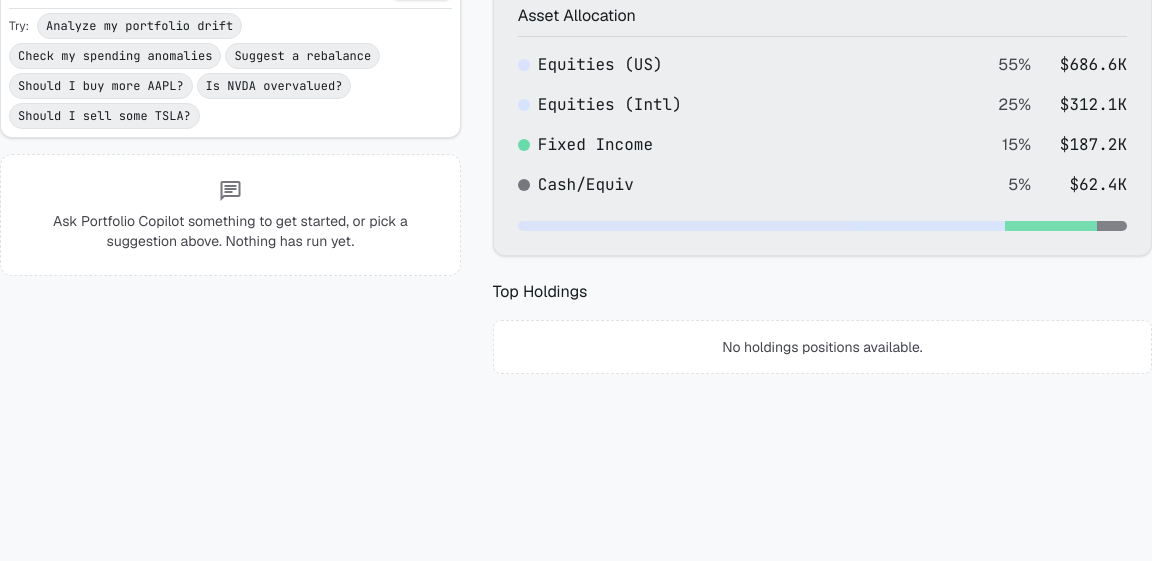
Test: Frontend Views › DashboardView allows rejecting actions and resumes plan via apiService.streamPlanResume
The image size is (1152, 561).
Click the button with test id "example-prompt" showing "Analyze my portfolio drift" at (140, 26), box left=37, top=13, right=242, bottom=39
(page scrolled)
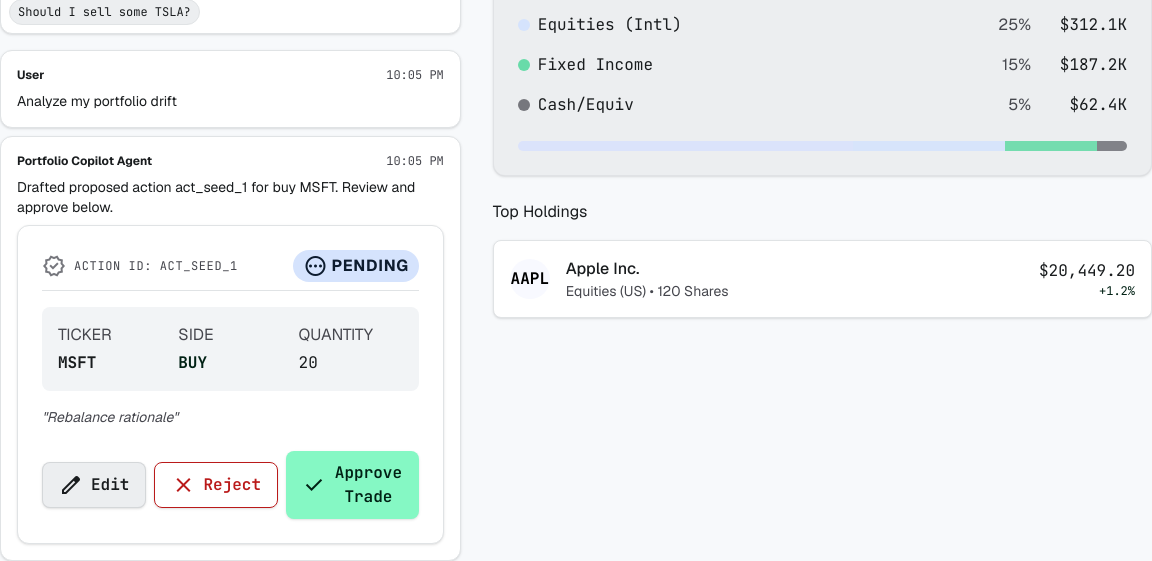
Result: the element with test id "approval-card" is shown at left=17, top=225, right=444, bottom=544
Click the button with test id "btn-reject" at (216, 485), box left=154, top=462, right=278, bottom=508
(page scrolled)
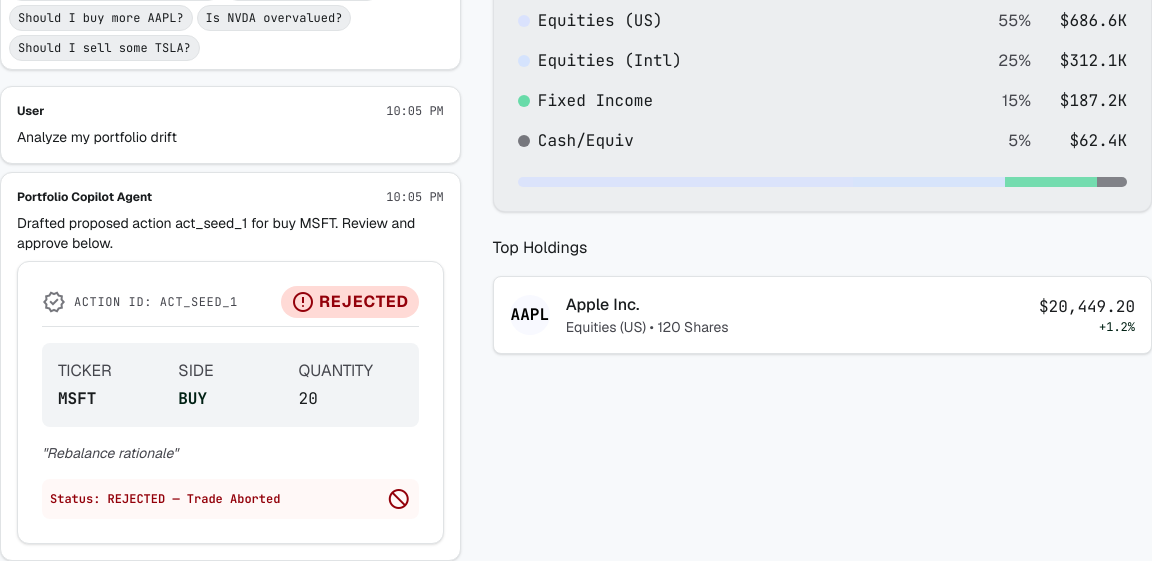
Result: the text "Status: REJECTED — Trade Aborted" is shown at left=50, top=491, right=280, bottom=507
